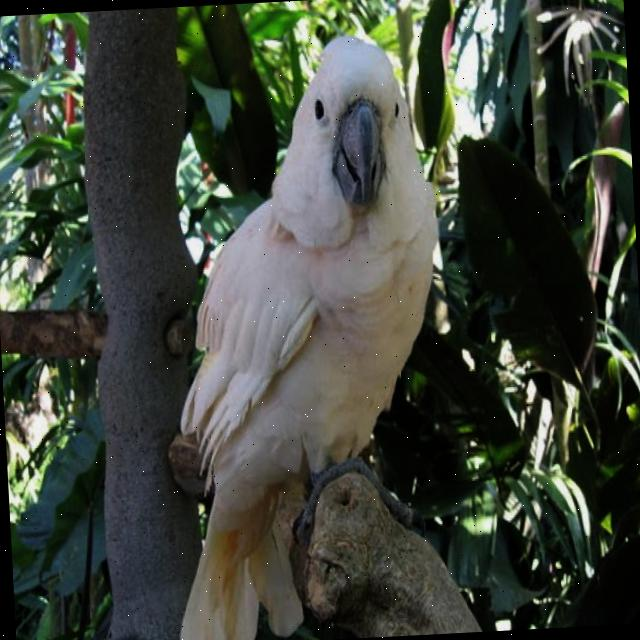Kakatua Putih: (111, 8, 486, 640)
